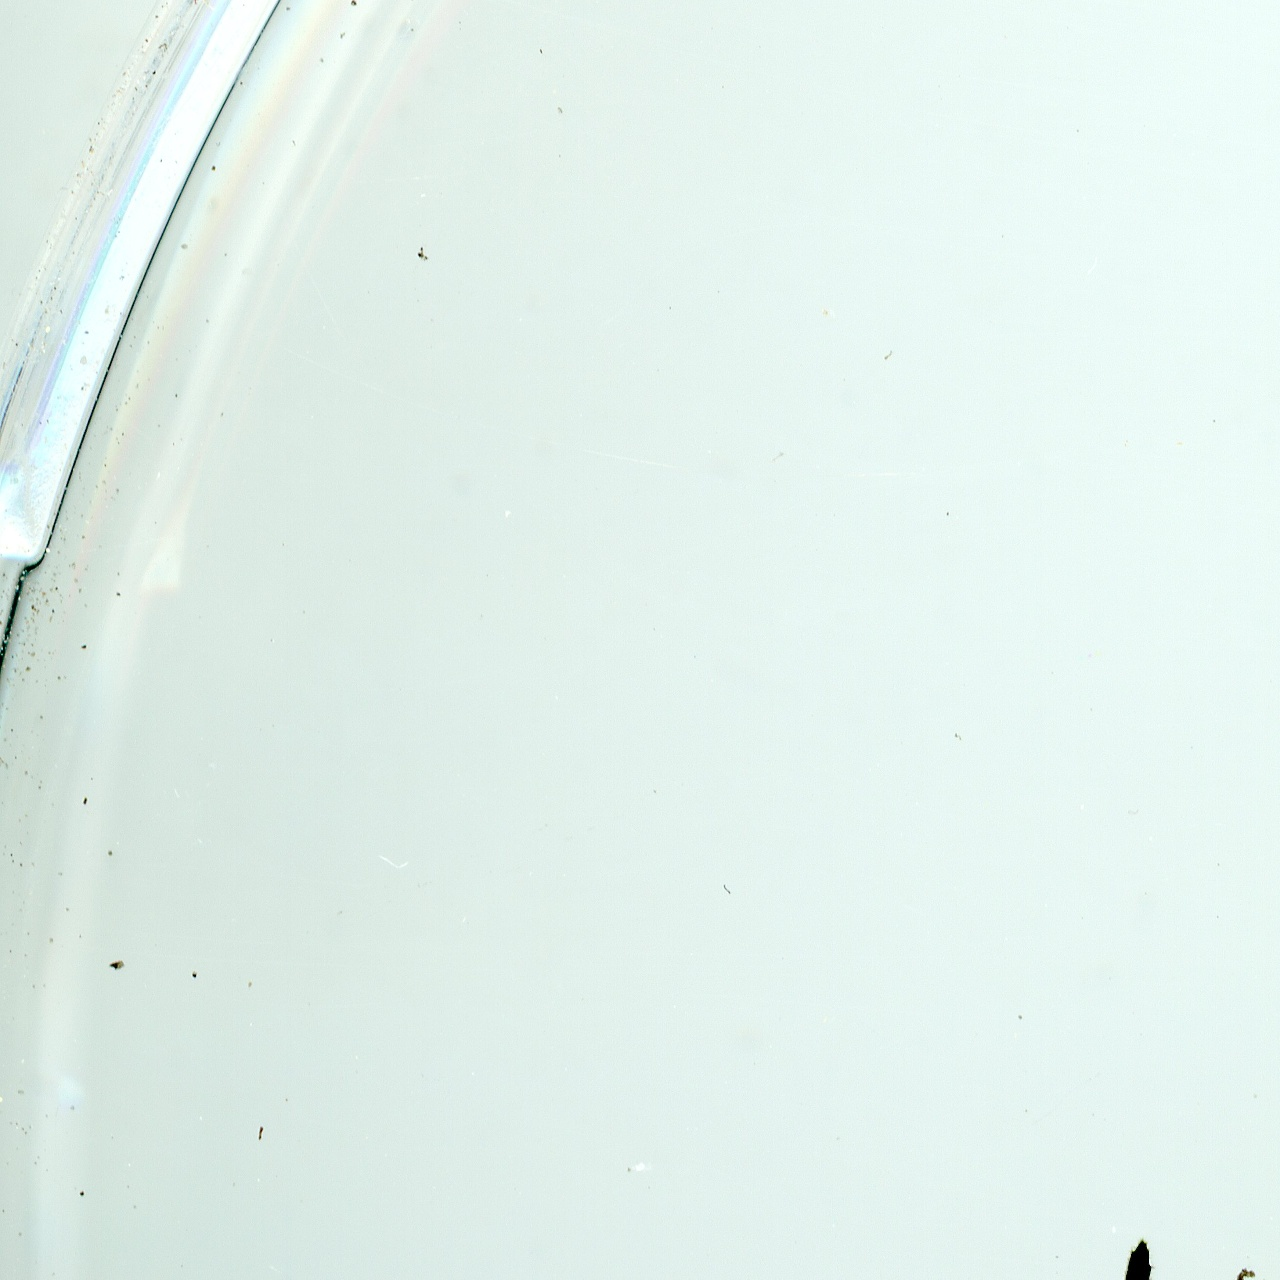arthropod: (1094, 1231, 1172, 1280)
